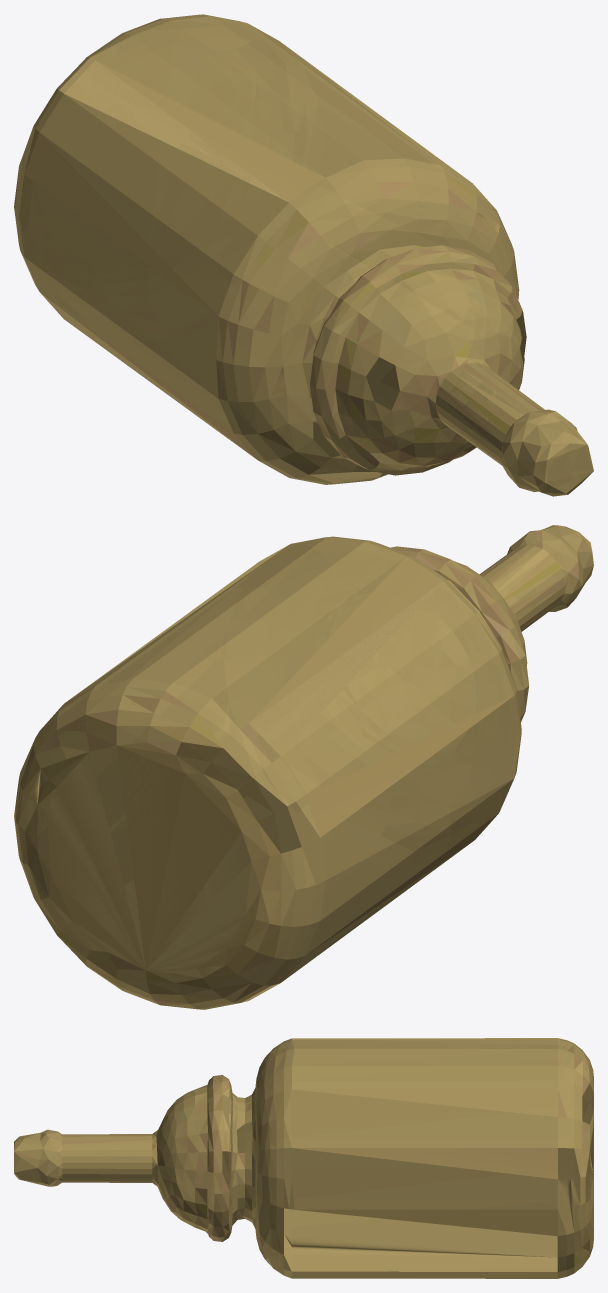
The model's file is model_align.obj.
3 views of the same model, one above another, from view 1: azimuth 30°, elevation 25°; view 2: azimuth 150°, elevation 25°; view 3: azimuth 270°, elevation 25° (orthographic). The views are drawn at different scales.
Size of the model in its own units: 0.0623 by 0.0623 by 0.1491.
